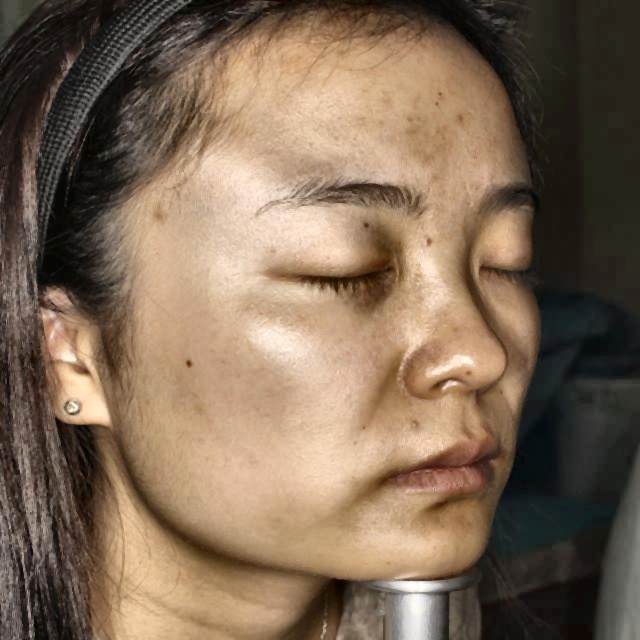comedone: (148, 204, 170, 231), (406, 409, 428, 436)
